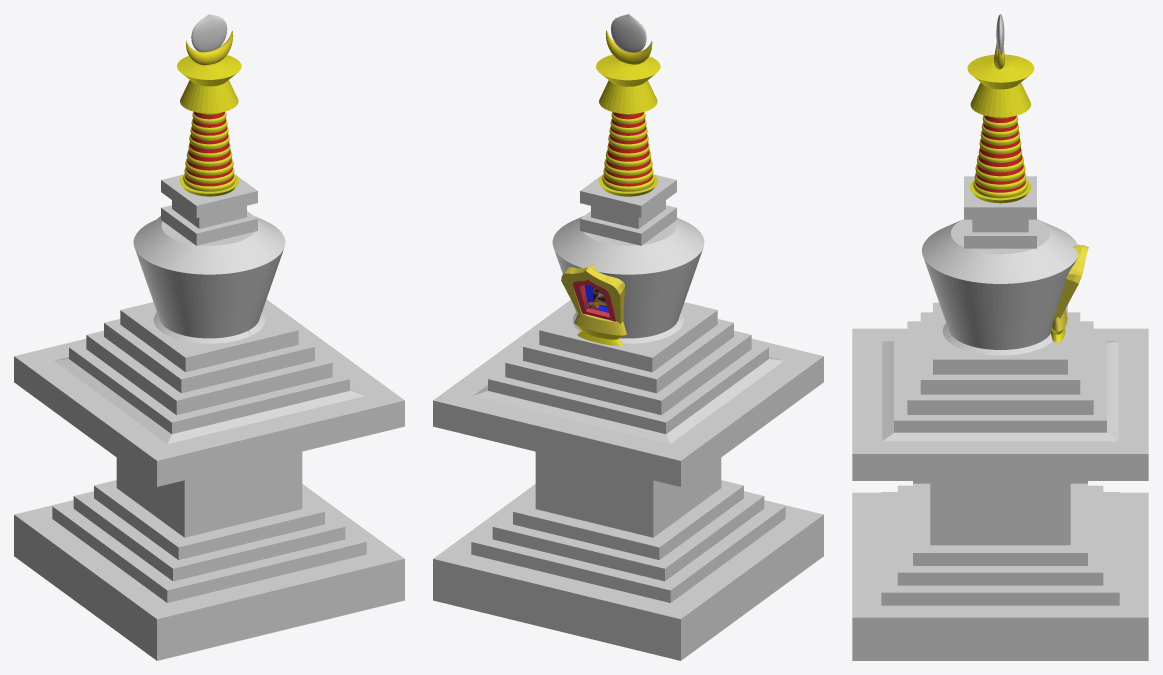
The model's file is chorten.glb.
The picture shows the model from 3 angles, left to right: view 1: azimuth 30°, elevation 25°; view 2: azimuth 150°, elevation 25°; view 3: azimuth 270°, elevation 25°; orthographic projection. The views are drawn at different scales.
Parts seen in each view (by area): view 1: Circle.012, BezierCurve.004; view 2: Circle.012, BezierCurve.004; view 3: Circle.012.
Part boxes in pixels (x1=…): Circle.012: x1=14, y1=14, x2=404, y2=660; BezierCurve.004: x1=186, y1=31, x2=233, y2=65; Circle.012: x1=433, y1=14, x2=823, y2=660; BezierCurve.004: x1=605, y1=30, x2=652, y2=64; Circle.012: x1=852, y1=14, x2=1148, y2=660.
Bounding box in the file's own units: 2.64 × 5.74 × 2.64.
9 materials, 1 textured.
